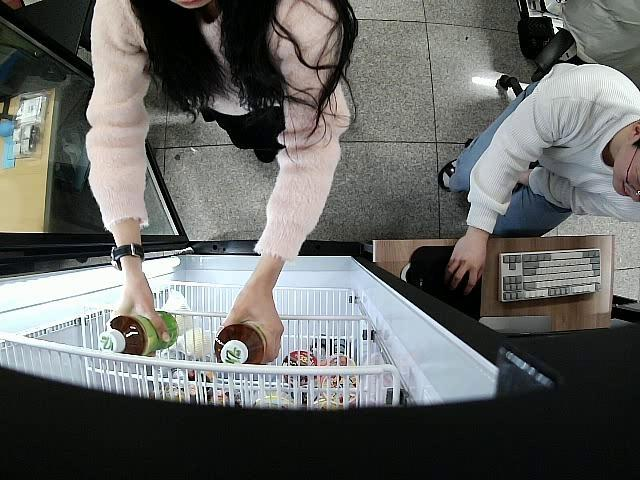19_17cha: (98, 308, 181, 358), (214, 324, 268, 366)
